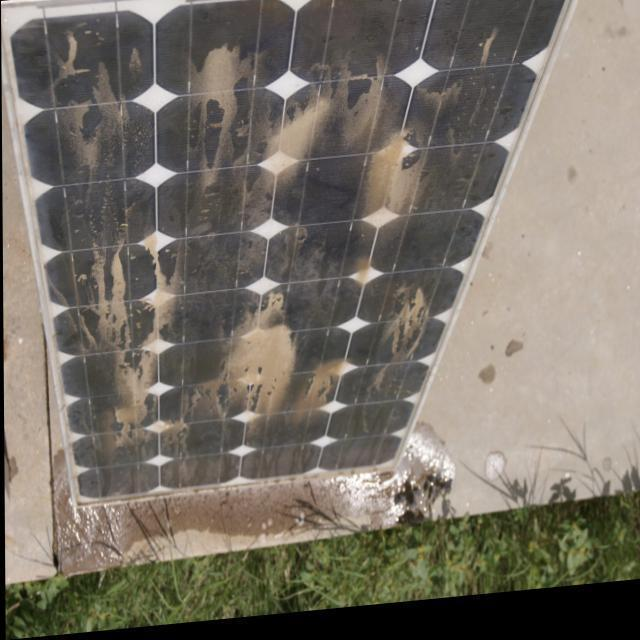Anomaly Solar Panel: (0, 0, 575, 505)
Surface Contaminant: (9, 0, 563, 497)
